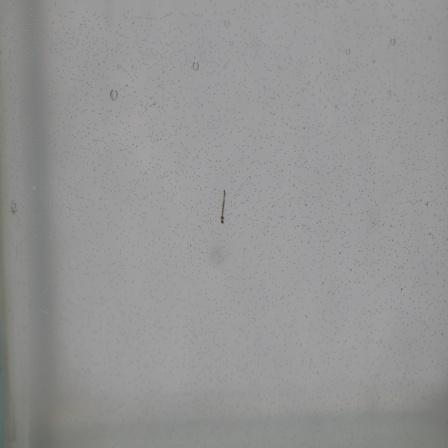Jentik-Nyamuk: (216, 185, 230, 228)
